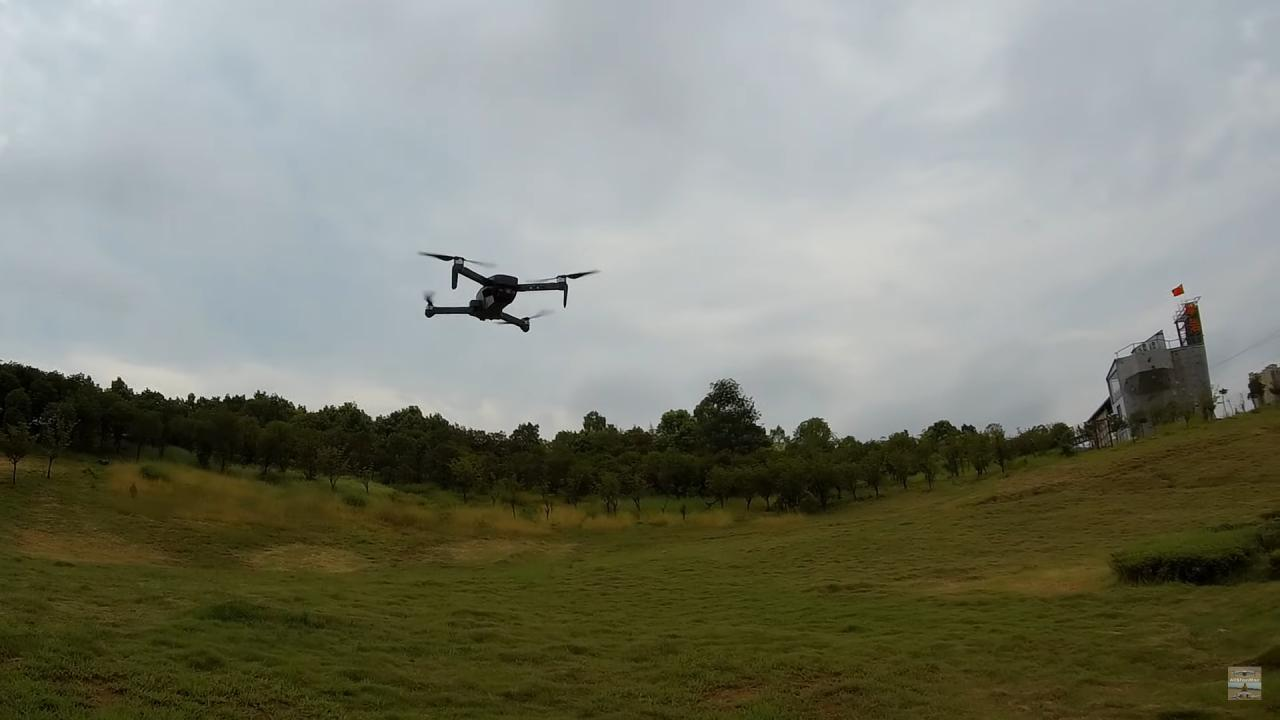Drone: (406, 237, 610, 346)
